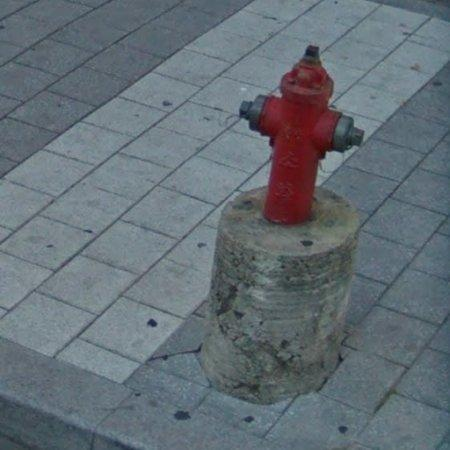a fire hydrant: (240, 44, 365, 223)
